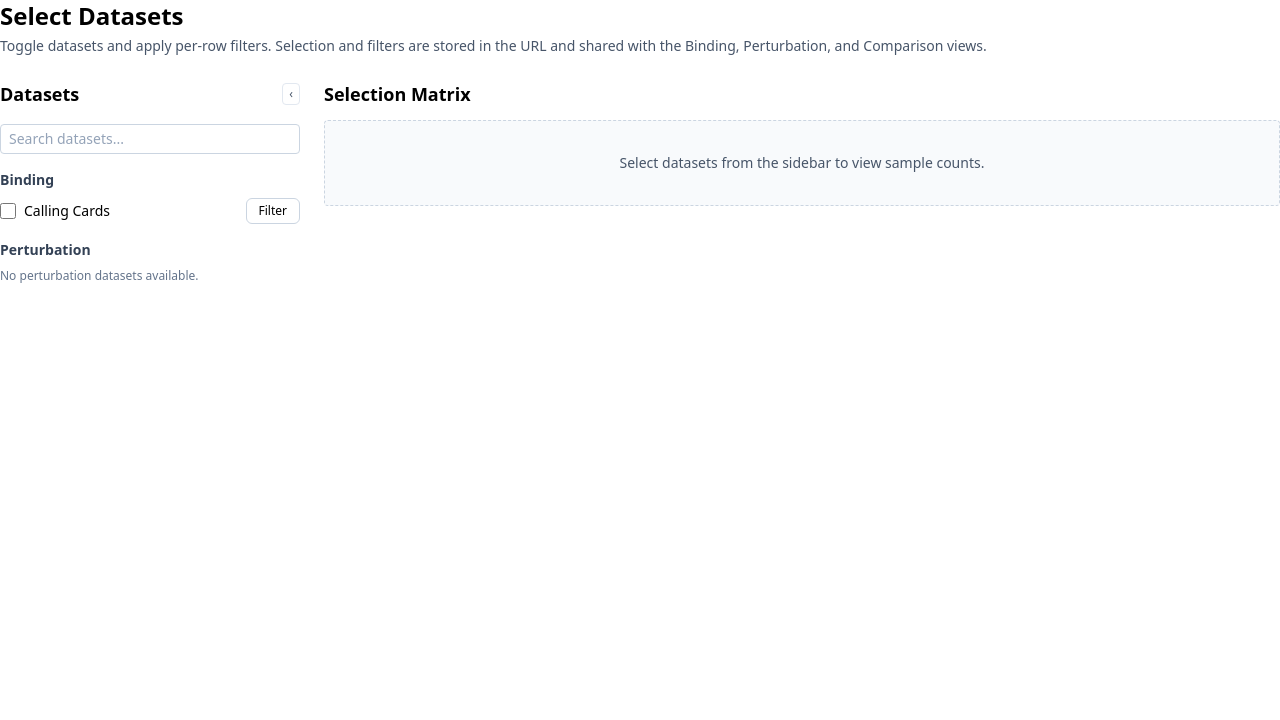
Scenario: Select route › clicking a per-row Filter button opens the modal and fetches /datasets/{db}/fields
expect the text "Calling Cards" is shown: met, box x1=24 y1=201 x2=110 y2=221
Click the button "Filter" at (273, 211), box x1=246 y1=198 x2=300 y2=224
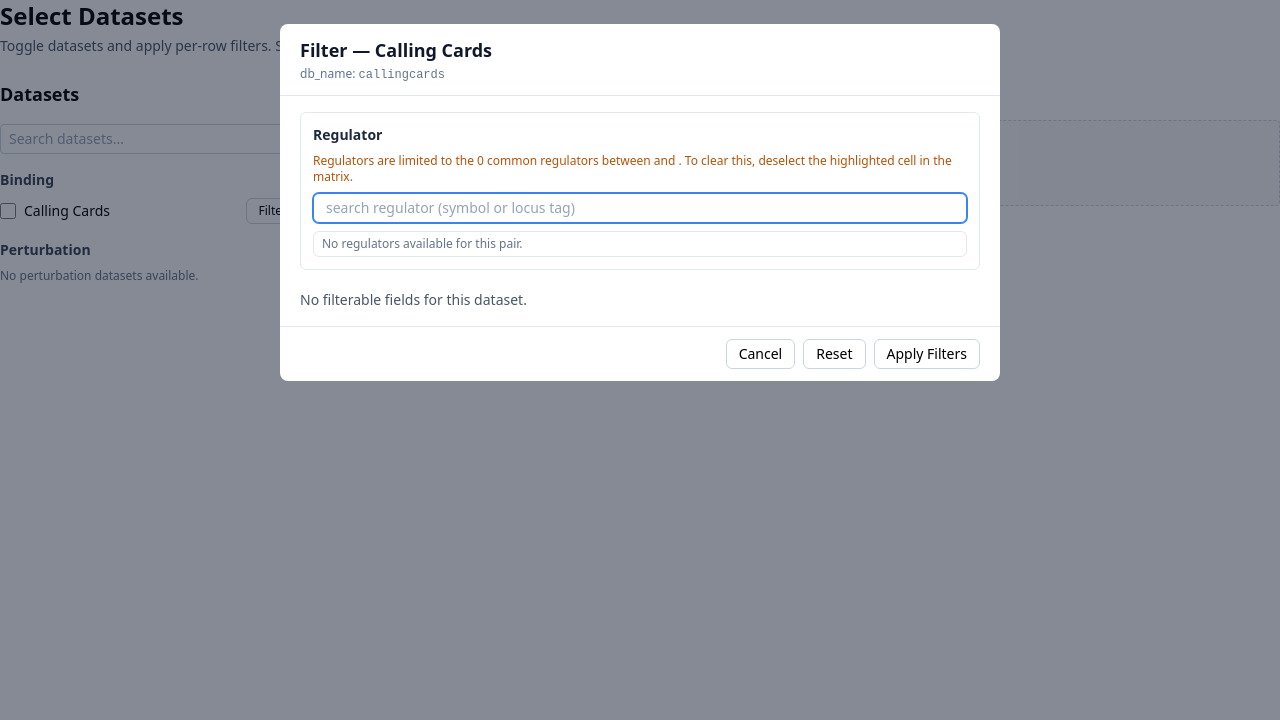
expect the heading "Filter — Calling Cards" is shown: met, box x1=300 y1=38 x2=492 y2=62
